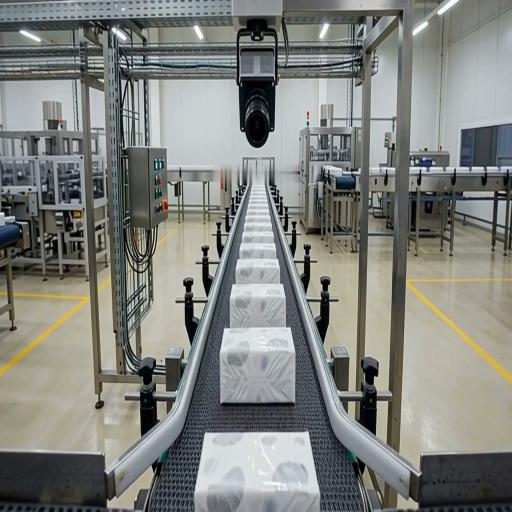good: (195, 432, 320, 511), (220, 328, 295, 403), (230, 284, 286, 328), (236, 259, 280, 283), (239, 243, 276, 258), (242, 232, 274, 243), (244, 221, 272, 231), (246, 213, 270, 222), (247, 206, 269, 215), (249, 198, 267, 205)
